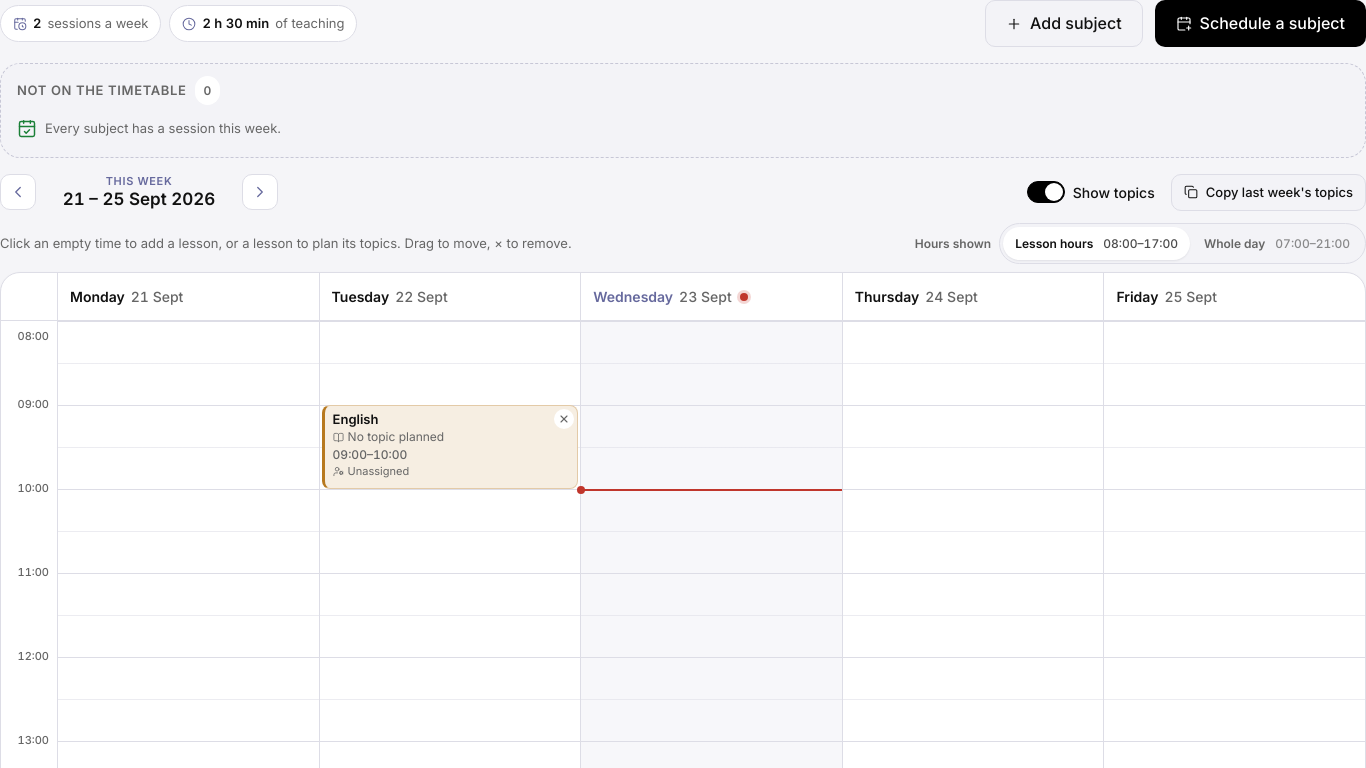
Test case: TimetablePage adding sessions › shows a helpful message when every subject is already scheduled
The width and height of the screenshot is (1366, 768).
Click the button "Schedule a subject" at (1260, 24), box [1155,0,1365,47]
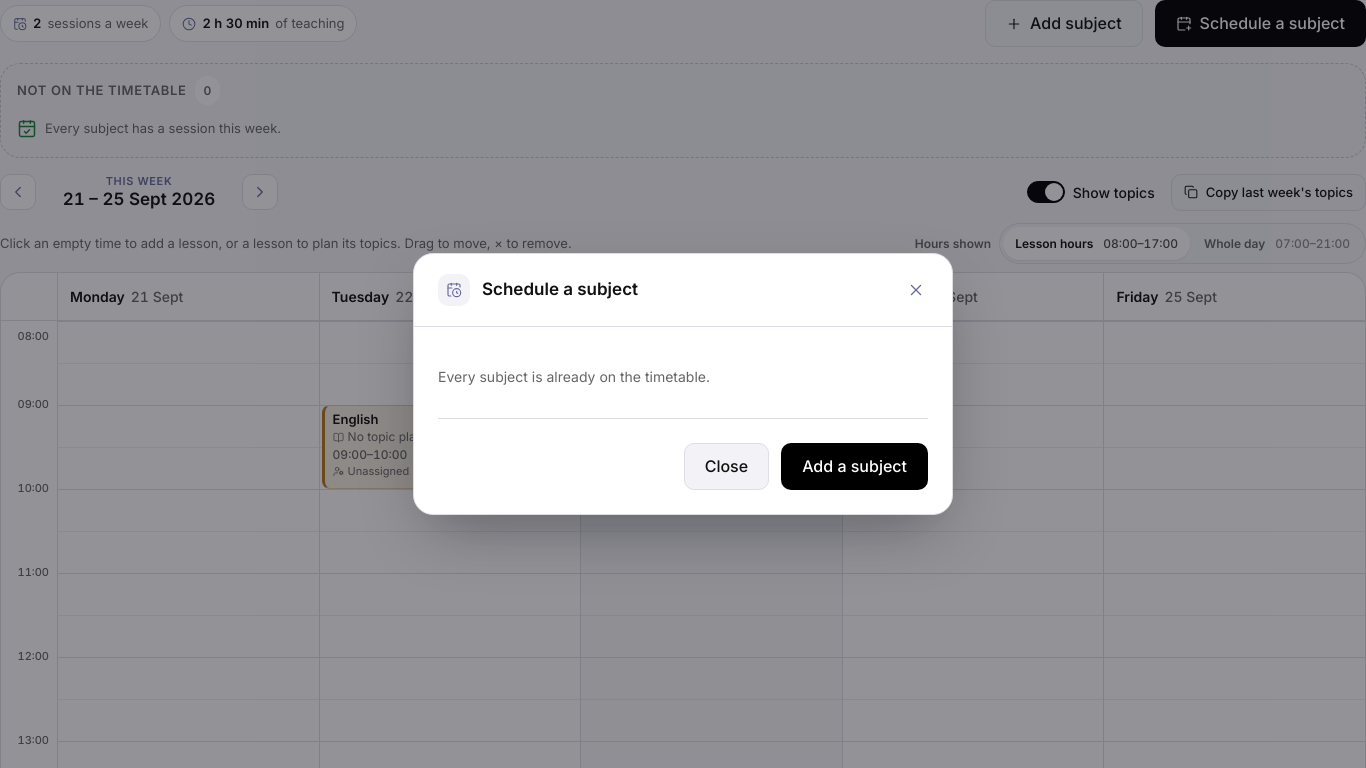
Expected: the text "Every subject is already on the timetable." is shown, [438,368,710,385]
